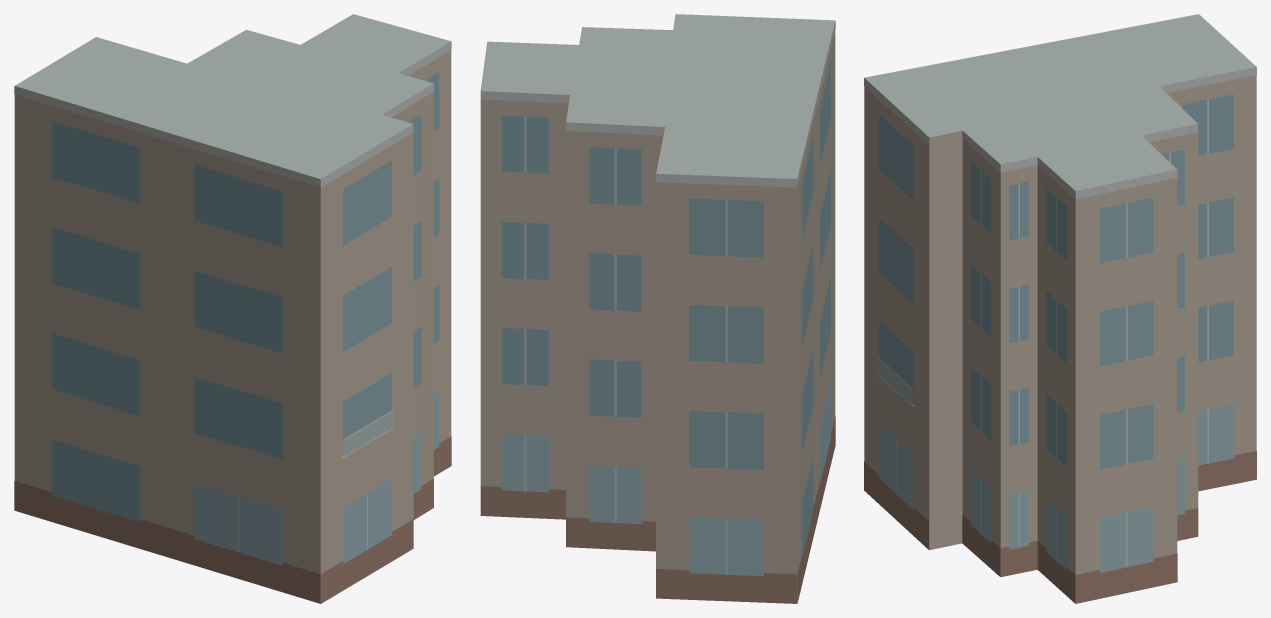
File: survey-upis-32900198.glb
3 renders of one model, left to right at view 1: azimuth 30°, elevation 25°; view 2: azimuth 150°, elevation 25°; view 3: azimuth 270°, elevation 25°, orthographic. The views are drawn at different scales.
Visible parts, largest first — view 1: survey-upis-32900198.tmp; view 2: survey-upis-32900198.tmp; view 3: survey-upis-32900198.tmp.
Part boxes in pixels (box(x1,y1,x2,y2)): survey-upis-32900198.tmp: box(14, 14, 451, 603); survey-upis-32900198.tmp: box(480, 14, 835, 603); survey-upis-32900198.tmp: box(864, 14, 1256, 603).
Size of the model in its own units: 11.24 by 12.2 by 10.53.
